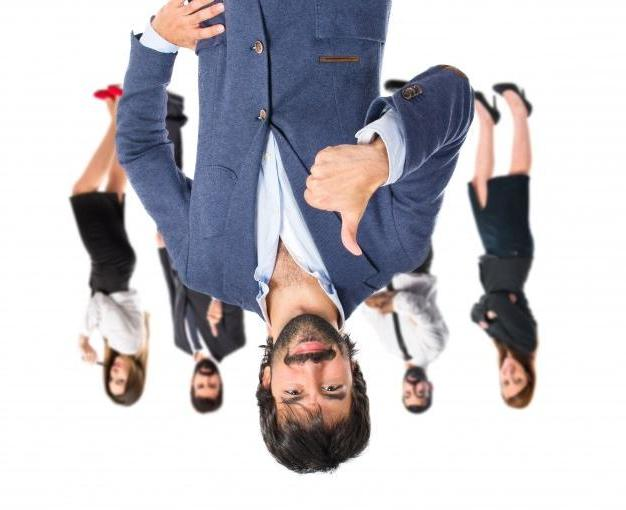thumbsdown: (303, 144, 365, 256)
